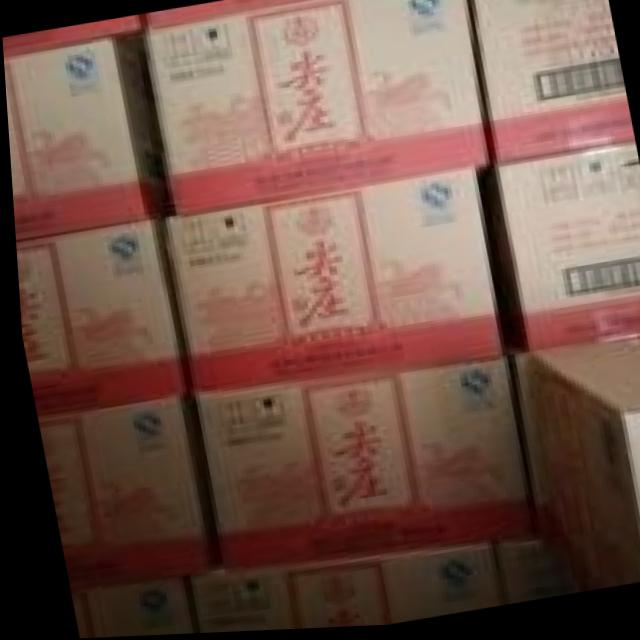box: (158, 168, 525, 394), (189, 355, 537, 571), (146, 0, 486, 216), (31, 395, 213, 592), (3, 29, 172, 241), (185, 537, 547, 634), (13, 218, 183, 416), (511, 340, 640, 598), (493, 147, 640, 354), (465, 0, 629, 170), (62, 574, 196, 639), (2, 15, 146, 56), (143, 0, 316, 29)
